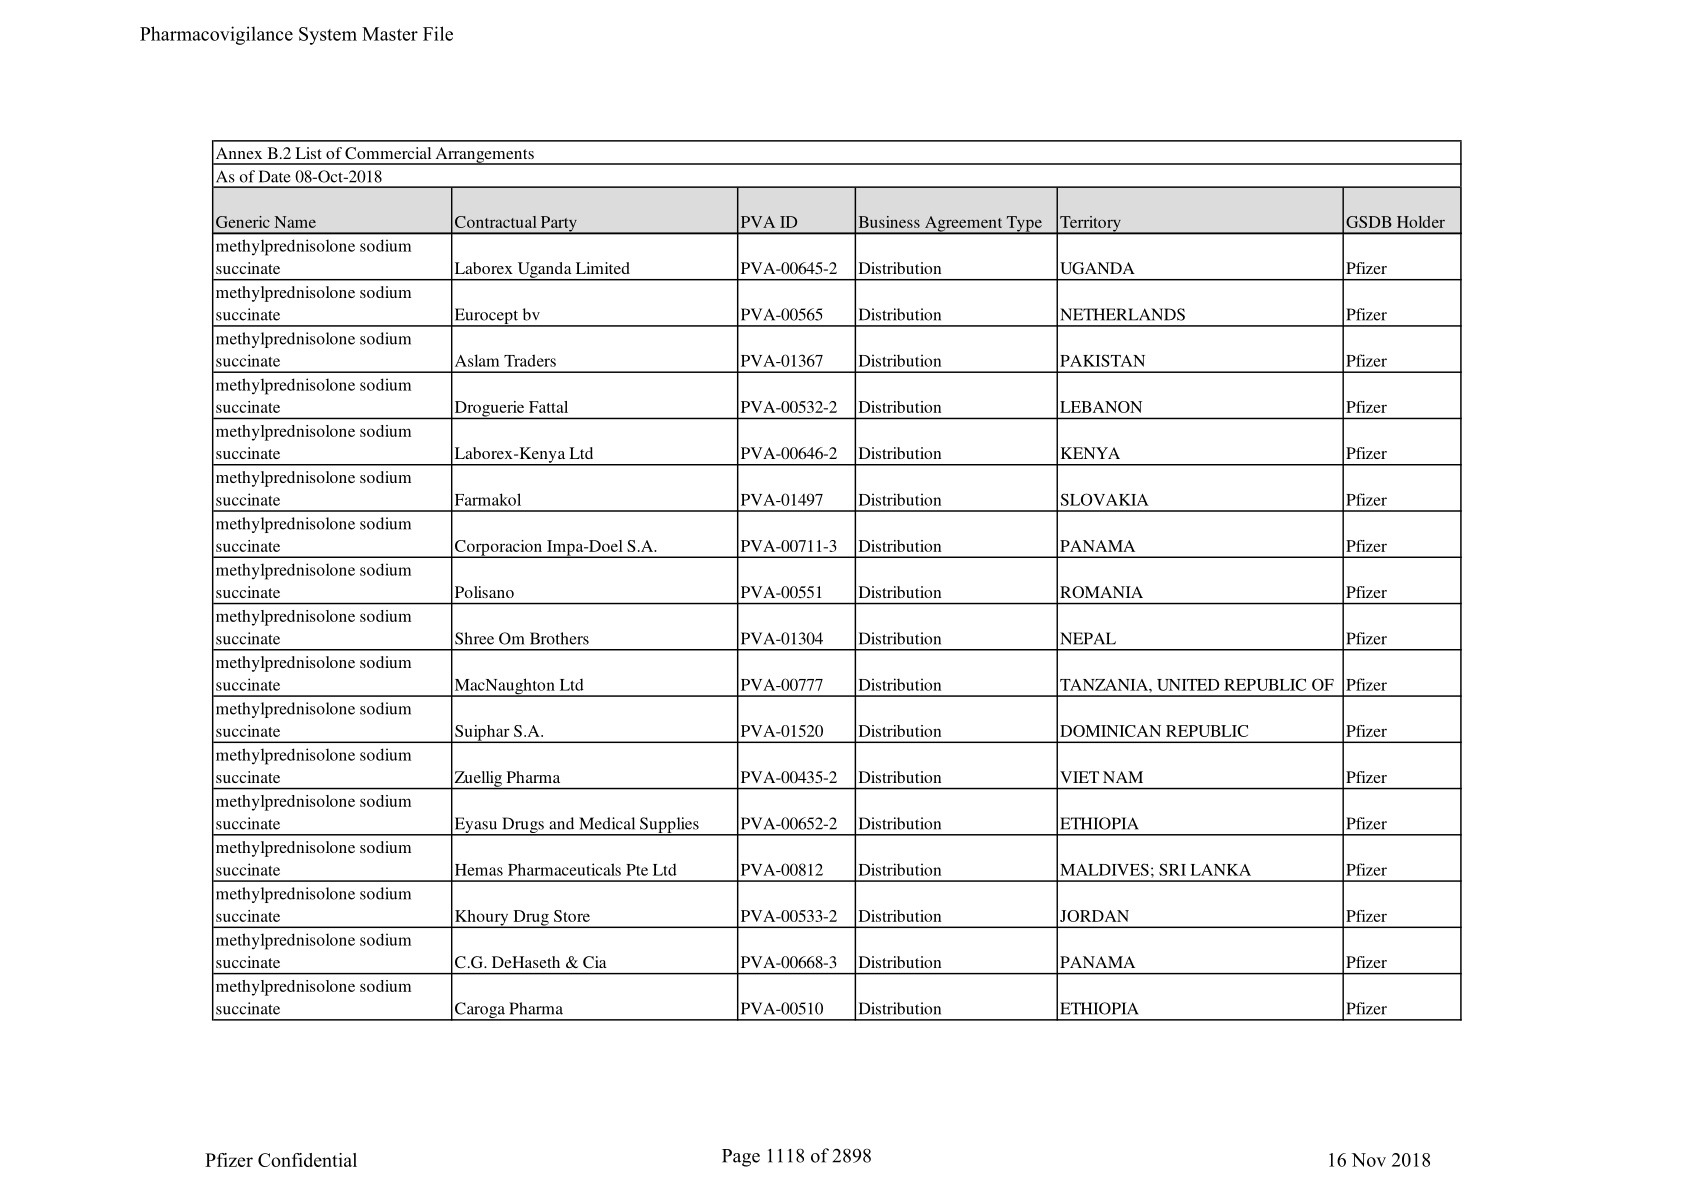merged_cells: (210, 138, 1462, 1022)
